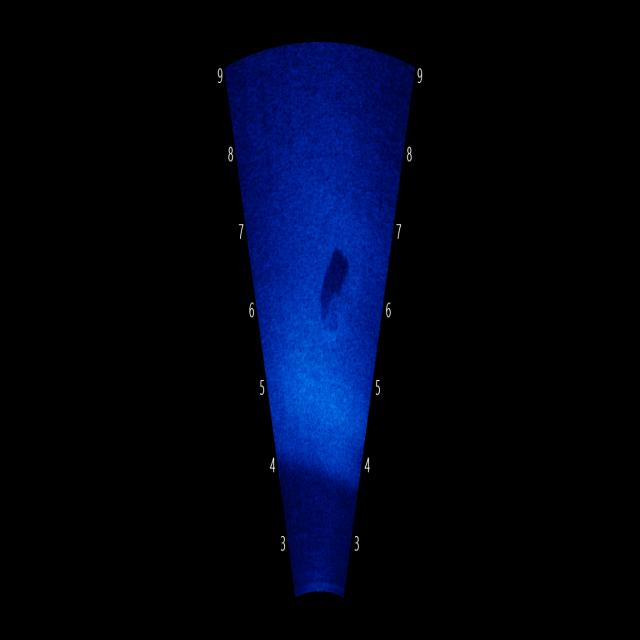square: (313, 240, 366, 353)
